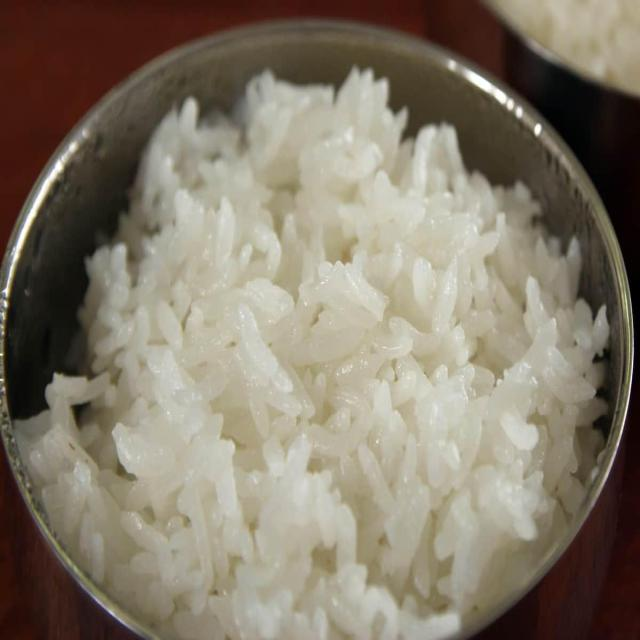rice: (10, 67, 609, 640)
